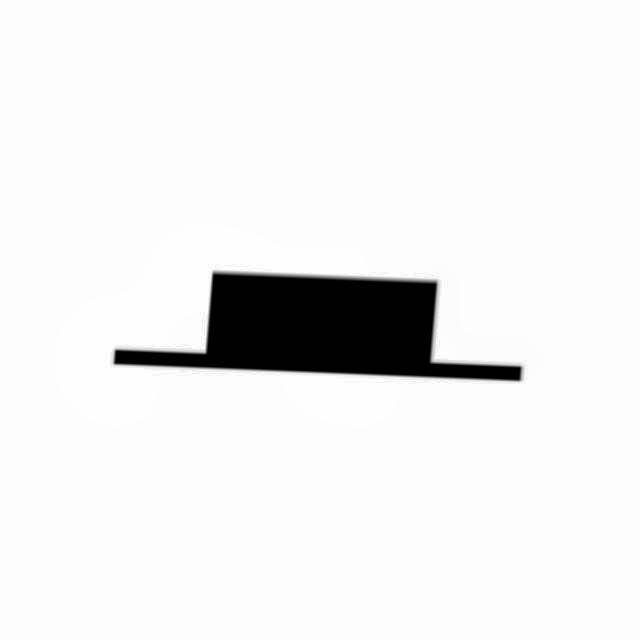Half-rest: (68, 262, 554, 406)
